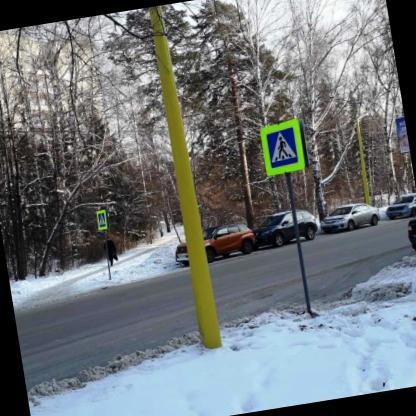road_sign: (260, 118, 306, 175), (97, 209, 107, 231)
